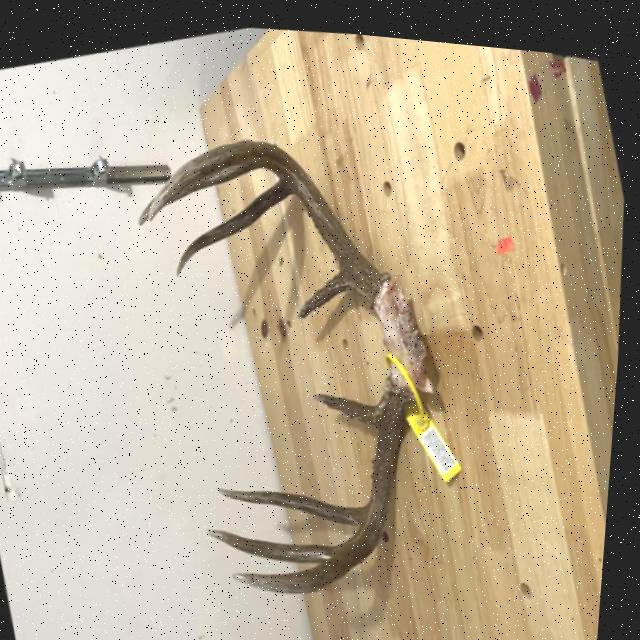L-F: (150, 133, 387, 290)
L-G1: (299, 261, 357, 311)
L-G2: (179, 173, 292, 272)
R-F: (239, 372, 414, 586)
R-G1: (317, 386, 386, 418)
R-G2: (224, 482, 373, 517)
R-G3: (213, 523, 342, 556)
